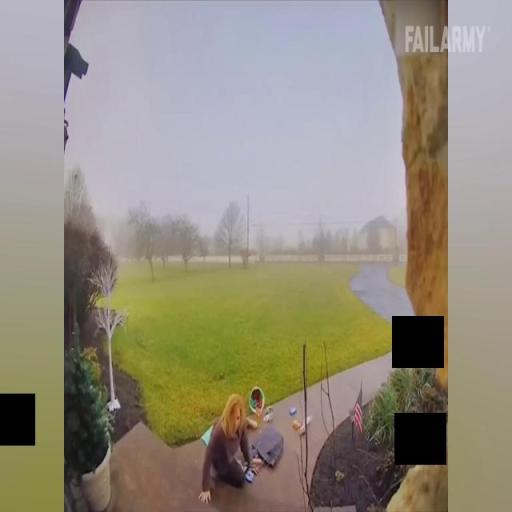Fall: (201, 390, 264, 506)
